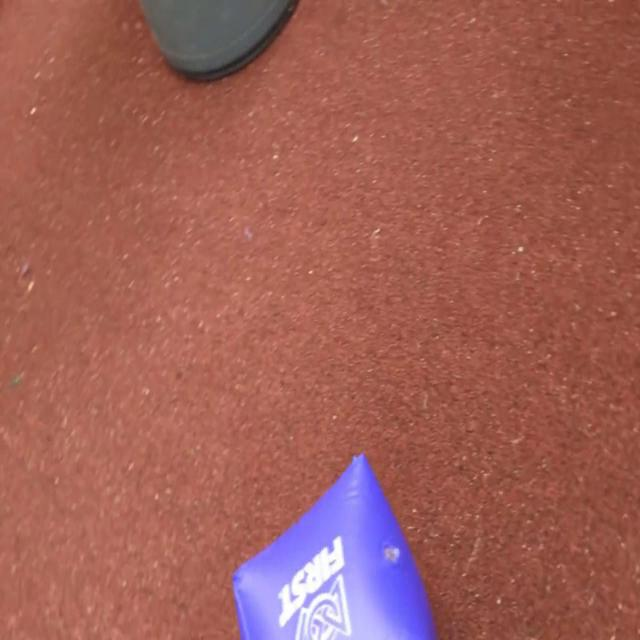frc_cube: (231, 450, 441, 640)
